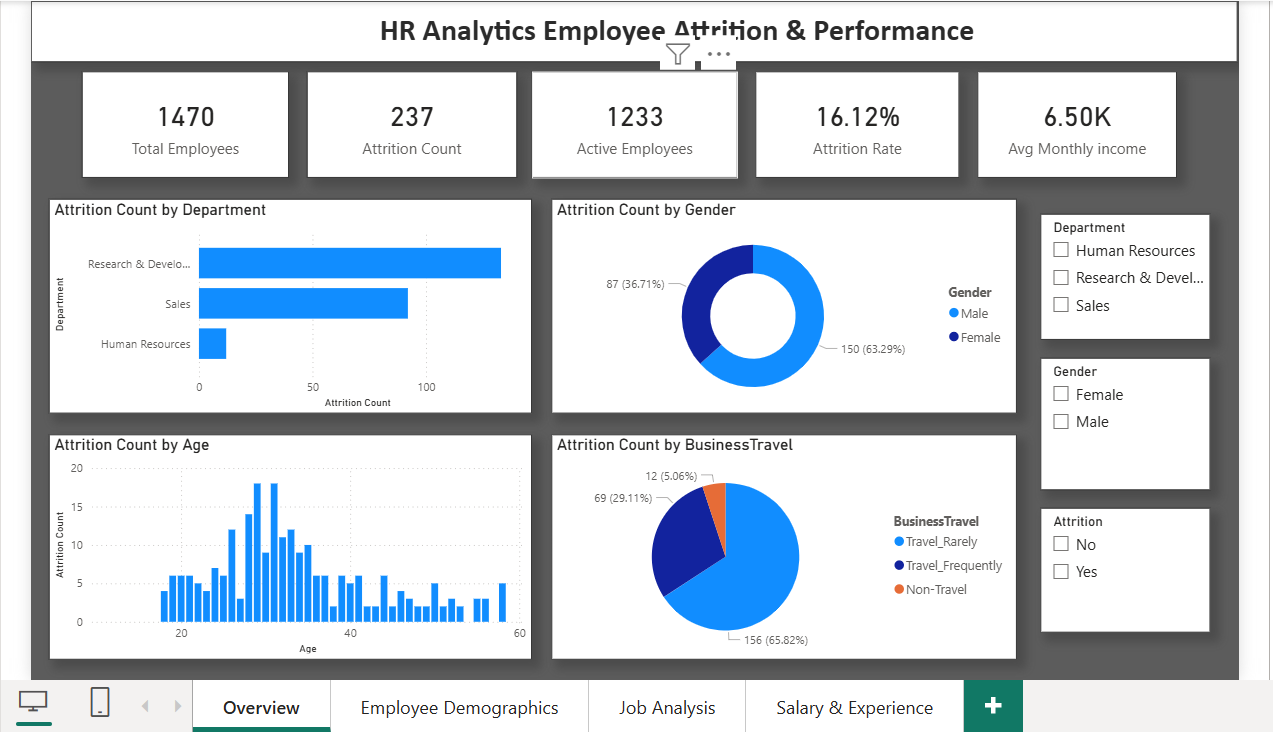

What the dashboard file says about the page in this screenshot:
{"tool":"powerbi","page":{"name":"Overview","canvas":[1280,720],"ordinal":0},"visuals":[{"type":"textbox","box":[0,0,1279.2,64.8],"z":0},{"type":"card","fields":{"Values":["Dax Measures.Attrition Count"]},"box":[292.7,74.8,222.7,112.9],"z":1000},{"type":"card","fields":{"Values":["Dax Measures.Attrition Rate"]},"box":[768.3,74.8,216.3,112.9],"z":2000},{"type":"card","fields":{"Values":["Dax Measures.Total Employees"]},"box":[54.1,74.8,219.5,112.9],"z":3000},{"type":"card","fields":{"Values":["Dax Measures.Avg Monthly income"]},"box":[1003.7,74.8,211.6,112.9],"z":4000},{"type":"clusteredBarChart","fields":{"Y":["Dax Measures.Attrition Count"],"Category":["HR Data.Department"]},"box":[19.1,210,512.2,227.5],"z":5000},{"type":"donutChart","fields":{"Category":["HR Data.Gender"],"Y":["Dax Measures.Attrition Count"]},"box":[551.9,210,493.1,227.5],"z":6000},{"type":"clusteredColumnChart","fields":{"Category":["HR Data.Age"],"Y":["Dax Measures.Attrition Count"]},"box":[19.1,459.7,512.2,238.6],"z":7000},{"type":"pieChart","fields":{"Category":["HR Data.BusinessTravel"],"Y":["Dax Measures.Attrition Count"]},"box":[551.9,459.7,493.1,238.6],"z":8000},{"type":"card","fields":{"Values":["Dax Measures.Active Employees"]},"box":[531.3,74.8,217.9,112.9],"z":9000},{"type":"slicer","fields":{"Values":["HR Data.Department"]},"box":[1070.5,225.9,179.7,133.6],"z":10000},{"type":"slicer","fields":{"Values":["HR Data.Gender"]},"box":[1070.5,378.6,179.7,140],"z":11000},{"type":"slicer","fields":{"Values":["HR Data.Attrition"]},"box":[1070.5,537.6,179.7,132],"z":12000}]}

Visuals, with their boxes in screenshot pixels (x1, y1, x2, y2):
textbox: box=[27, 0, 1237, 58]
card - Dax Measures.Attrition Count: box=[303, 67, 514, 174]
card - Dax Measures.Attrition Rate: box=[753, 67, 958, 174]
card - Dax Measures.Total Employees: box=[78, 67, 285, 174]
card - Dax Measures.Avg Monthly income: box=[976, 67, 1176, 174]
clusteredBarChart - Dax Measures.Attrition Count x HR Data.Department: box=[45, 195, 529, 411]
donutChart - HR Data.Gender x Dax Measures.Attrition Count: box=[549, 195, 1015, 411]
clusteredColumnChart - HR Data.Age x Dax Measures.Attrition Count: box=[45, 432, 529, 657]
pieChart - HR Data.BusinessTravel x Dax Measures.Attrition Count: box=[549, 432, 1015, 657]
card - Dax Measures.Active Employees: box=[529, 67, 735, 174]
slicer - HR Data.Department: box=[1039, 210, 1209, 337]
slicer - HR Data.Gender: box=[1039, 355, 1209, 487]
slicer - HR Data.Attrition: box=[1039, 505, 1209, 630]
